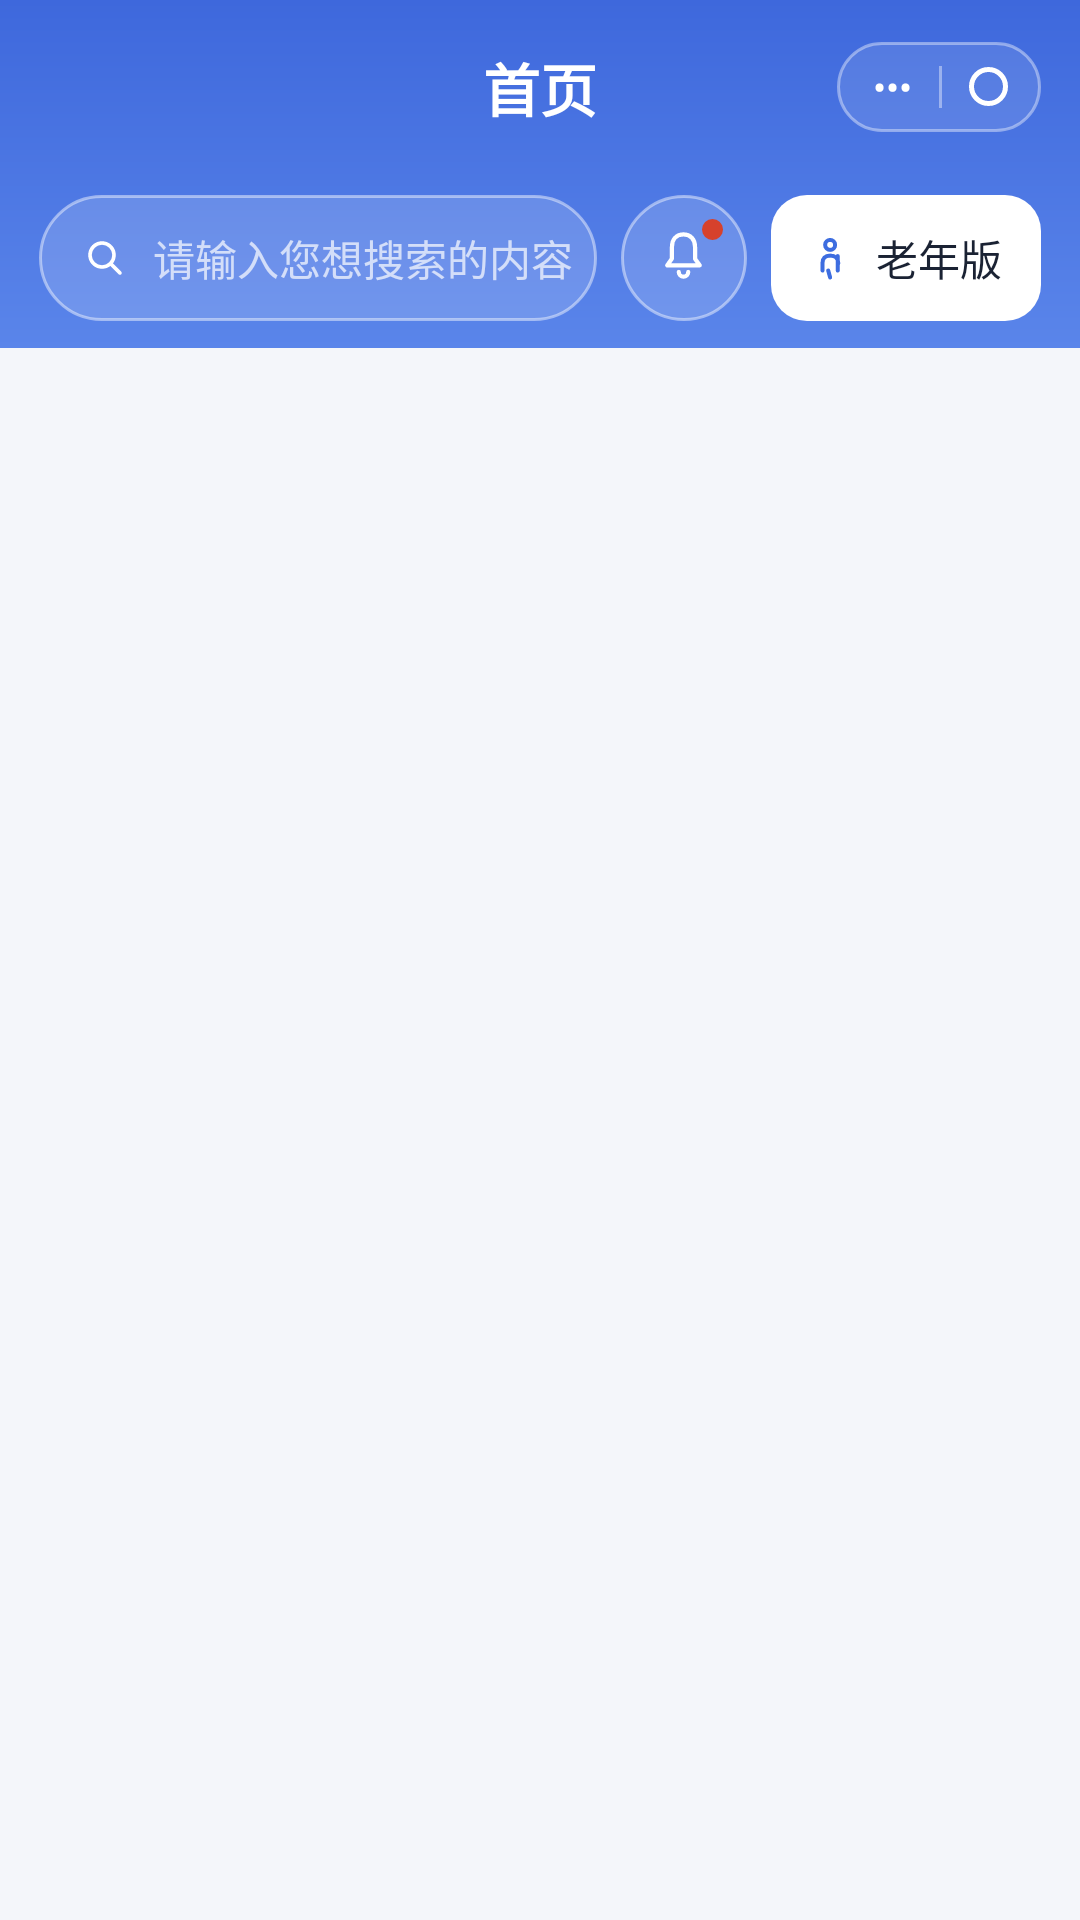

Named icons in this screenshot (1080 × 1920) and their bounding boxes, Rect(x1, y1, x2, y2):
hi bell: Rect(665, 232, 702, 279)
hi search: Rect(88, 241, 122, 275)
